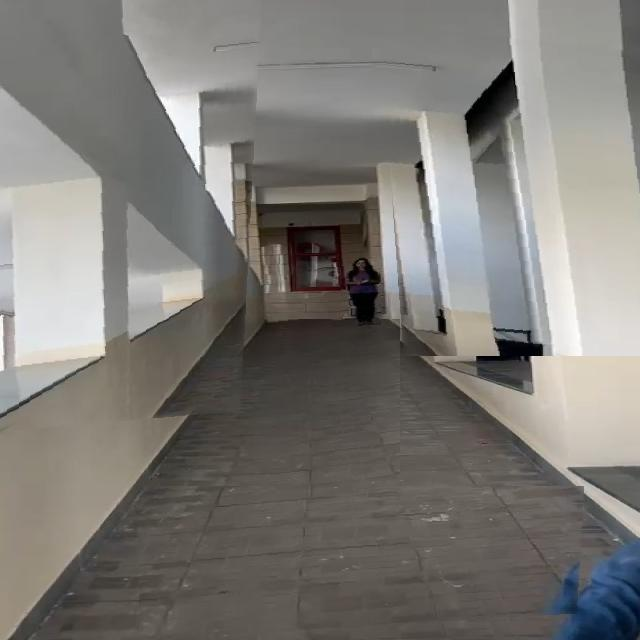floor: (139, 486, 586, 640), (273, 319, 400, 501)
moving_object: (329, 257, 381, 327)
wall: (0, 0, 263, 434), (379, 23, 640, 356)
